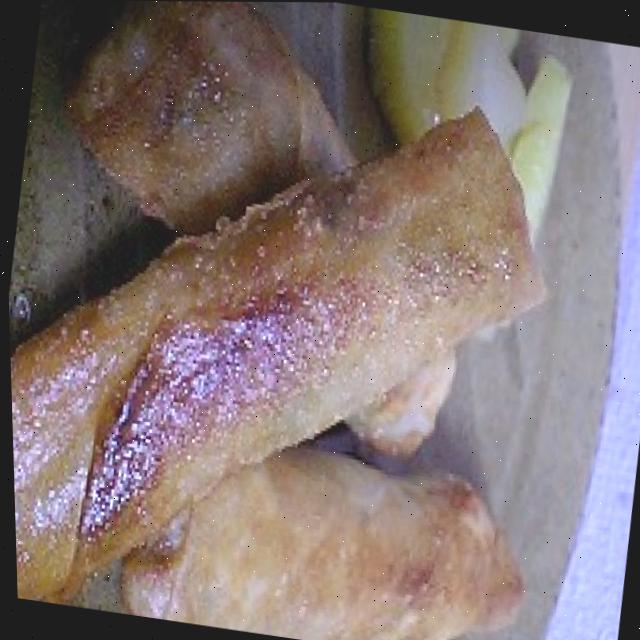鸡蛋料理: (0, 0, 504, 640)
